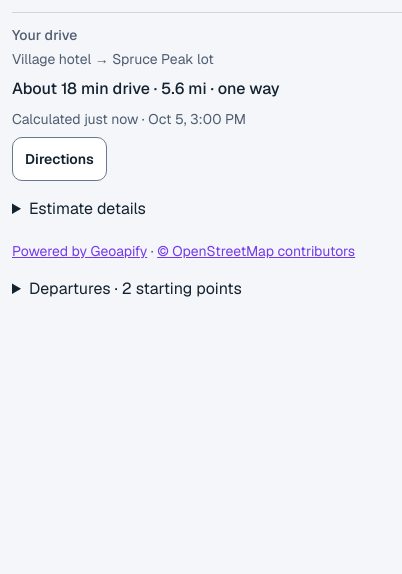
Your departure on the day (#333) › shows your own drive first, and every departure by name for anyone to open
This screenshot has width=402, height=574.
Check: the text "Village hotel → Spruce Peak lot" is shown, box 12,50 -> 214,68
Check: the text "About 18 min drive · 5.6 mi · one way" is shown, box 12,78 -> 280,99
What coordinates should you click on to do the following:
click the heading "Departures · 2 starting points"
I would click on:
 (135, 288)
Its box is 29,278 -> 242,299.
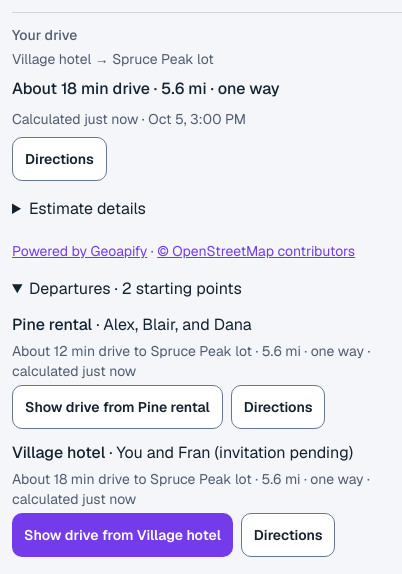
Check: the text "About 12 min drive to Spruce Peak lot · 5.6 mi · one way · calculated just now" is shown, box 12,341 -> 401,381
Check: the link with aria-label "Directions from Pine rental" is shown, box 231,385 -> 325,429
